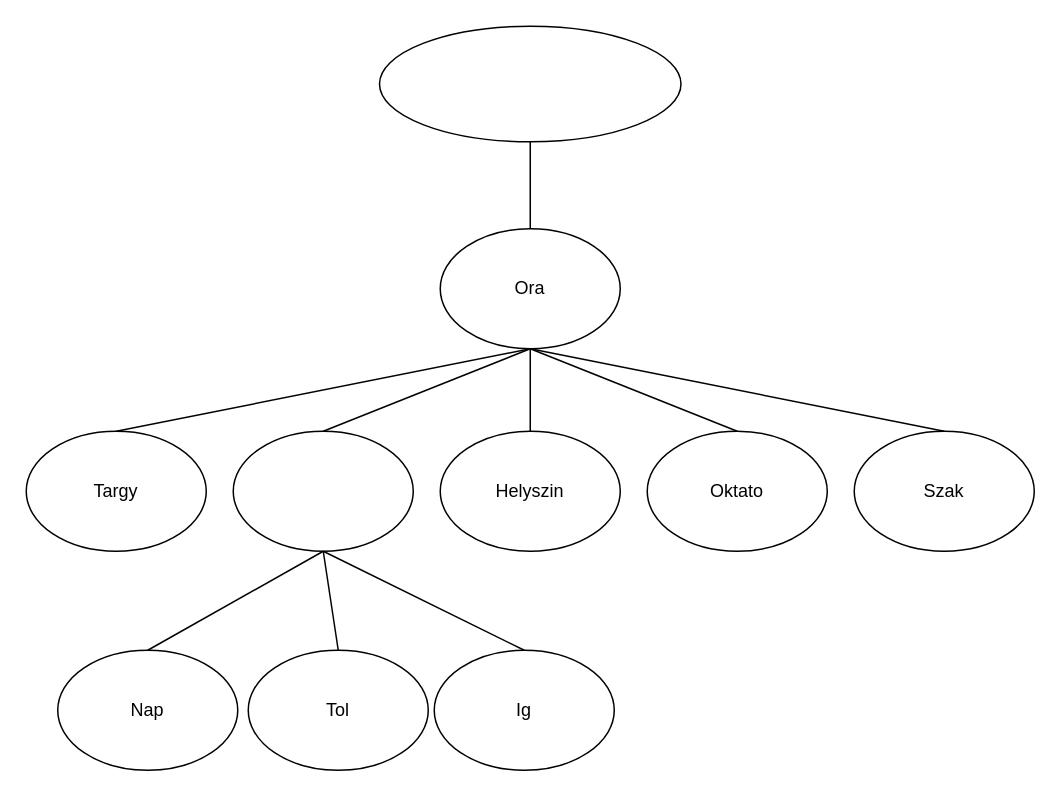
This 1061x797 diagram has some shape labels left out. Here are the shapes that lost their labels. From the top down, the centre of each, then its label:
At [529,83]: "Szeman_Balazs_orarend".
At [322,490]: "Idopont".
